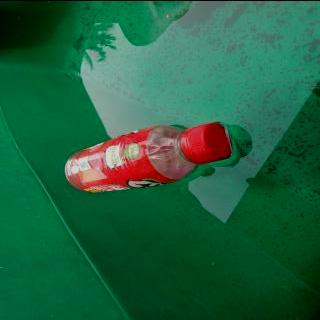bottle: (63, 121, 233, 193)
